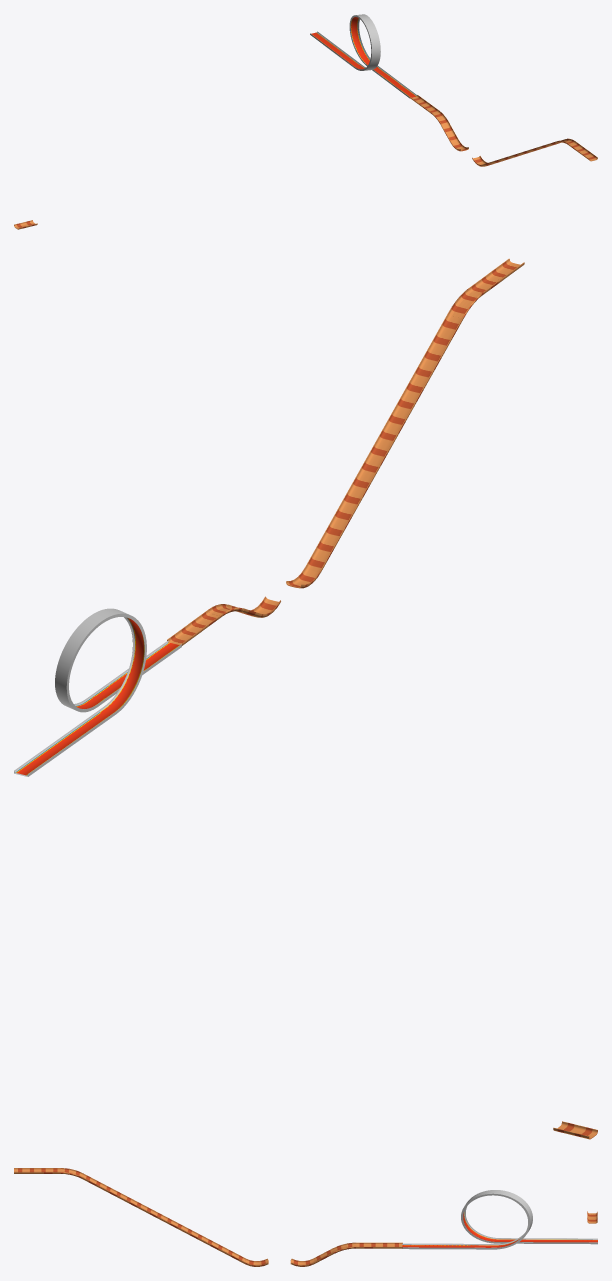
Rendered from level 2.fbx.
The picture shows the model from 3 angles, top to bottom: view 1: azimuth 30°, elevation 25°; view 2: azimuth 150°, elevation 25°; view 3: azimuth 270°, elevation 25°; orthographic projection. The views are drawn at different scales.
Visible parts, largest first — view 1: Box002; view 2: Box002; view 3: Box002, S161.013, 01 ramp material.001.
Part boxes in pixels (x1,y1,x2,y2): Box002: (310, 14, 417, 98); Box002: (14, 608, 181, 776); Box002: (402, 1190, 597, 1249); S161.013: (356, 1242, 379, 1248); 01 ramp material.001: (379, 1242, 402, 1248).
Bounding box in the file's own units: 47478 × 27623 × 70995.
